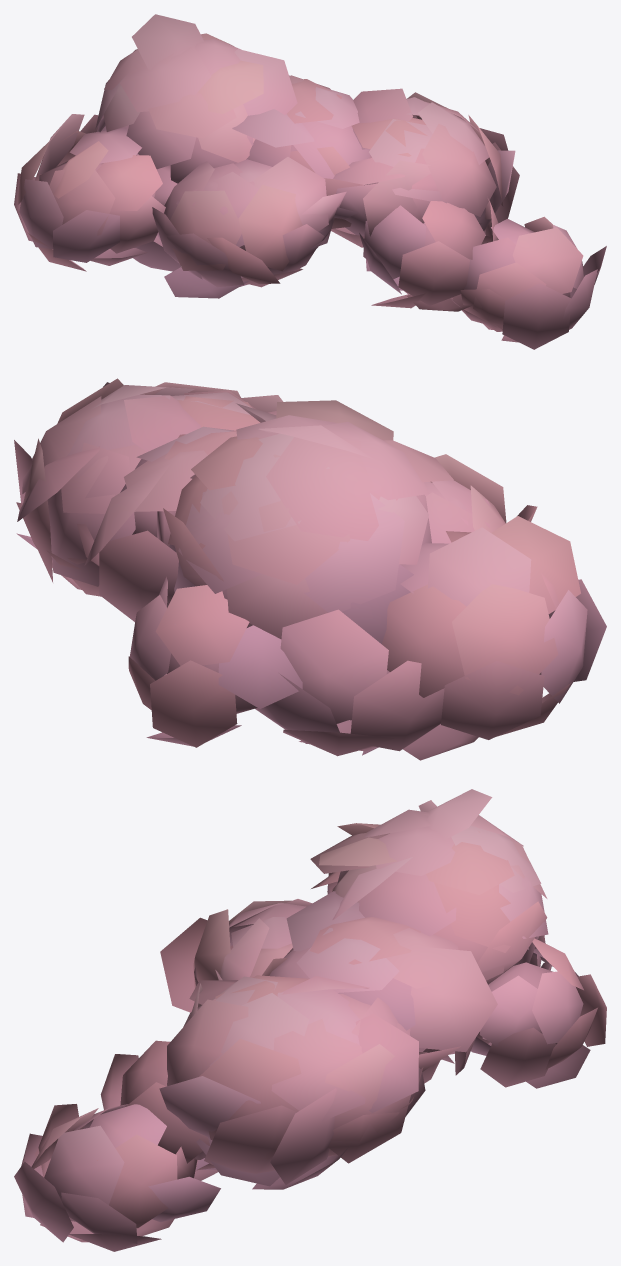
The model's file is zon_lake_swings_raw.glb.
3 views of the same model, one above another, from view 1: azimuth 30°, elevation 25°; view 2: azimuth 150°, elevation 25°; view 3: azimuth 270°, elevation 25° (orthographic). The views are drawn at different scales.
Visible parts, largest first — view 1: SM_zon_lake_swings_veg_leaf_clip_x0_zm1_LOD0_raw; view 2: SM_zon_lake_swings_veg_leaf_clip_x0_zm1_LOD0_raw; view 3: SM_zon_lake_swings_veg_leaf_clip_x0_zm1_LOD0_raw.
Part boxes in pixels (left/top/right/bottom): SM_zon_lake_swings_veg_leaf_clip_x0_zm1_LOD0_raw: left=14, top=14, right=606, bottom=349; SM_zon_lake_swings_veg_leaf_clip_x0_zm1_LOD0_raw: left=14, top=378, right=606, bottom=760; SM_zon_lake_swings_veg_leaf_clip_x0_zm1_LOD0_raw: left=14, top=789, right=606, bottom=1251.
Bounding box in the file's own units: 9.34 × 5.05 × 8.62.
